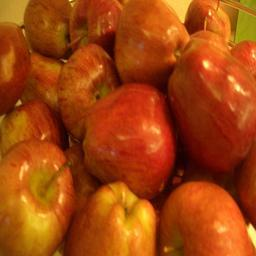apple: (169, 36, 255, 178), (81, 82, 174, 194), (1, 142, 75, 256), (64, 182, 161, 255), (159, 184, 255, 256), (114, 1, 186, 89), (56, 42, 117, 132), (1, 99, 70, 151), (18, 50, 67, 109), (23, 1, 72, 55), (68, 1, 117, 55), (182, 1, 232, 40)
